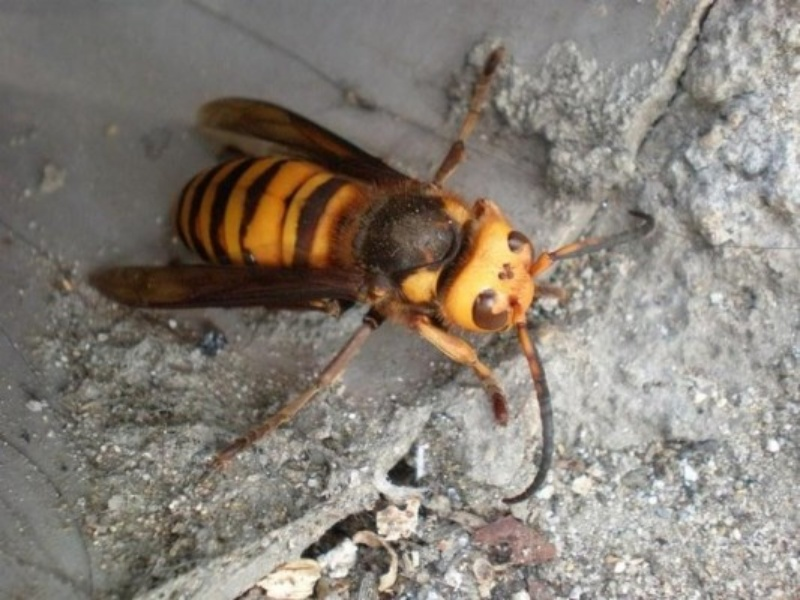asian_giant_hornet: (174, 152, 558, 417)
